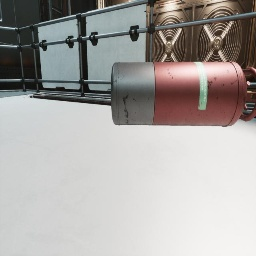NitrogenTank ,: (111, 61, 256, 127)
